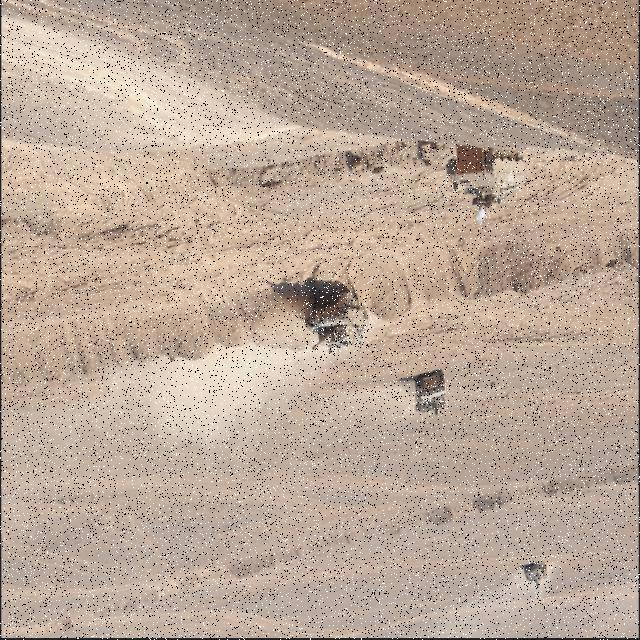MIL_MBT: (447, 148, 535, 222), (304, 290, 368, 356), (412, 370, 446, 417), (522, 560, 552, 591)
